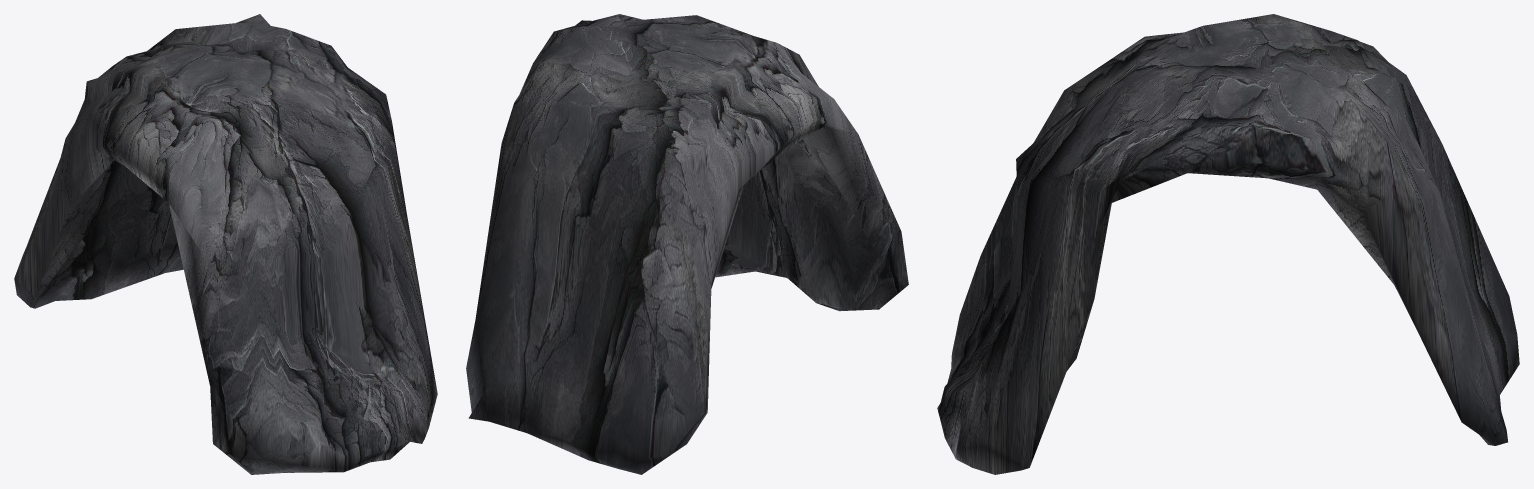
Rendered from Toonel3.fbx.
The picture shows the model from 3 angles, left to right: view 1: azimuth 30°, elevation 25°; view 2: azimuth 150°, elevation 25°; view 3: azimuth 270°, elevation 25°; orthographic projection. The views are drawn at different scales.
Parts seen in each view (by area): view 1: Куб.083; view 2: Куб.083; view 3: Куб.083.
Boxes of the visible parts, bbox=[...] form: Куб.083: bbox=[14, 14, 437, 474]; Куб.083: bbox=[466, 14, 908, 474]; Куб.083: bbox=[937, 14, 1519, 474].
Bounding box in the file's own units: 290 × 373 × 509.
